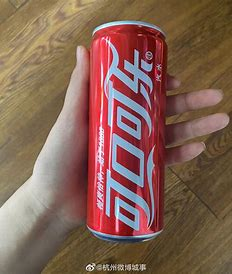Coke: (86, 20, 167, 241)
